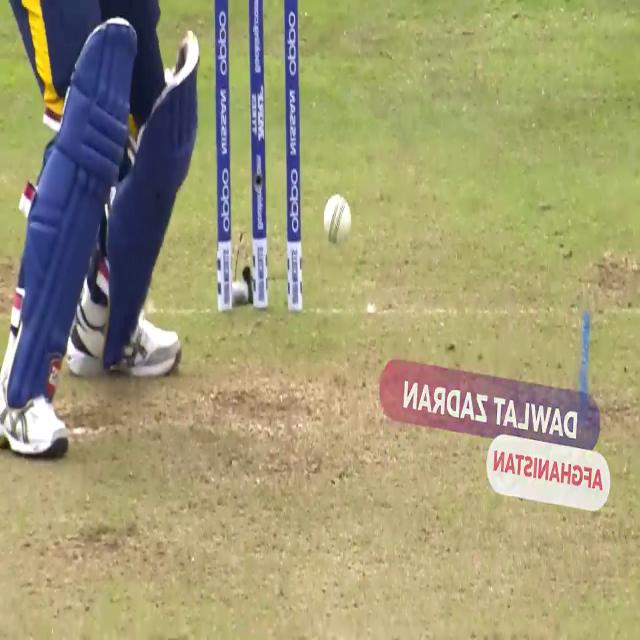ball: (321, 192, 352, 247)
